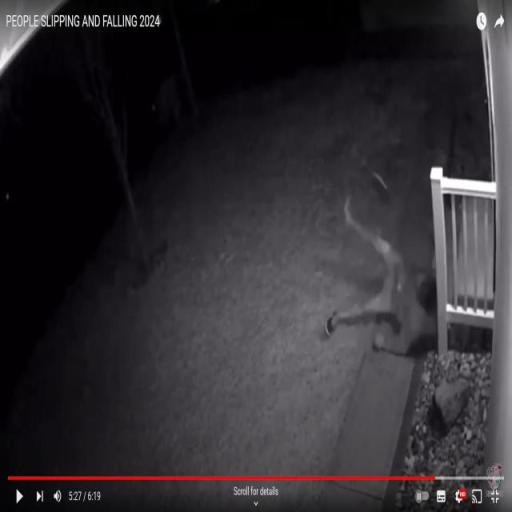Fall: (322, 191, 438, 359)
